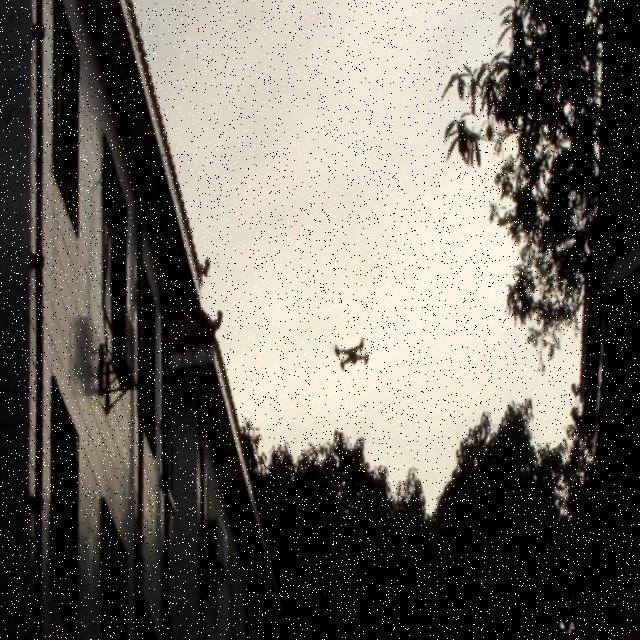UAV: (333, 335, 369, 372)
